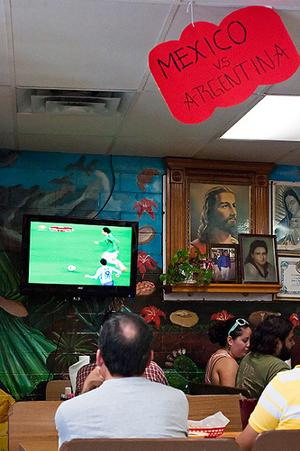person: (56, 311, 189, 448)
